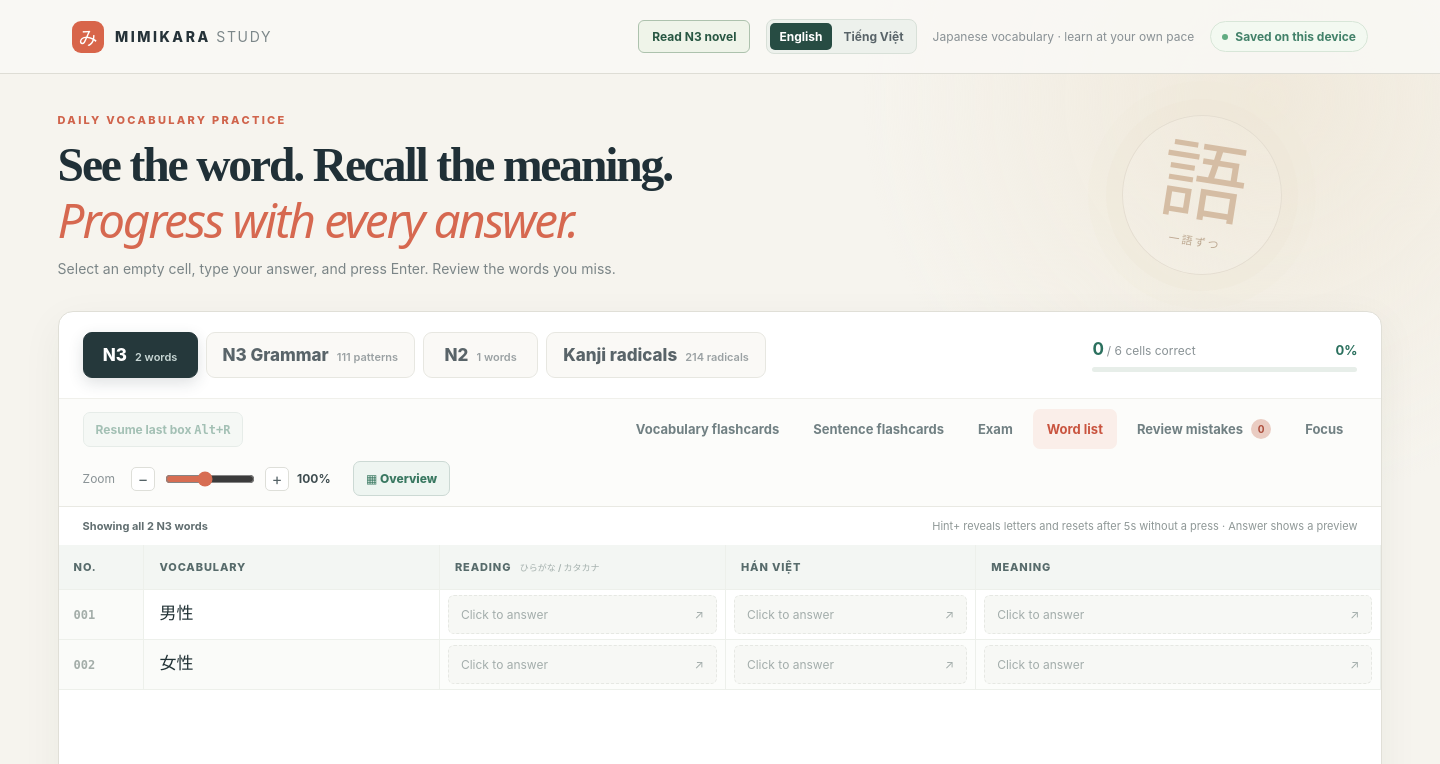
opens flashcard mode from the study toolbar and returns to the list
The width and height of the screenshot is (1440, 764).
Step 1. Click the button "Sentence flashcards" → [879, 429], box [799,409,958,449]
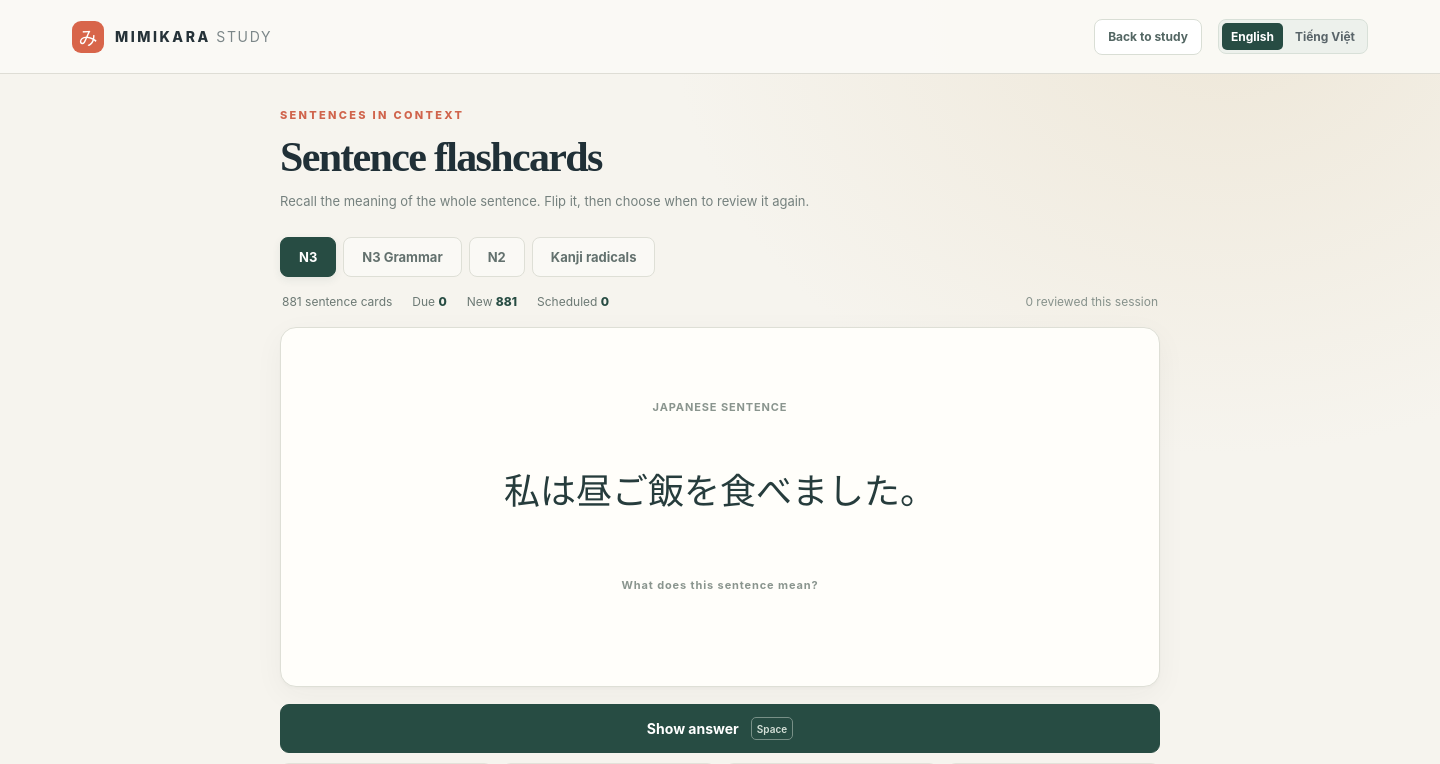
Expected: the heading "Sentence flashcards" is shown, [280,134,602,180]
Step 2. Click the button "Back to study" → [1148, 36], box [1094,18,1202,54]
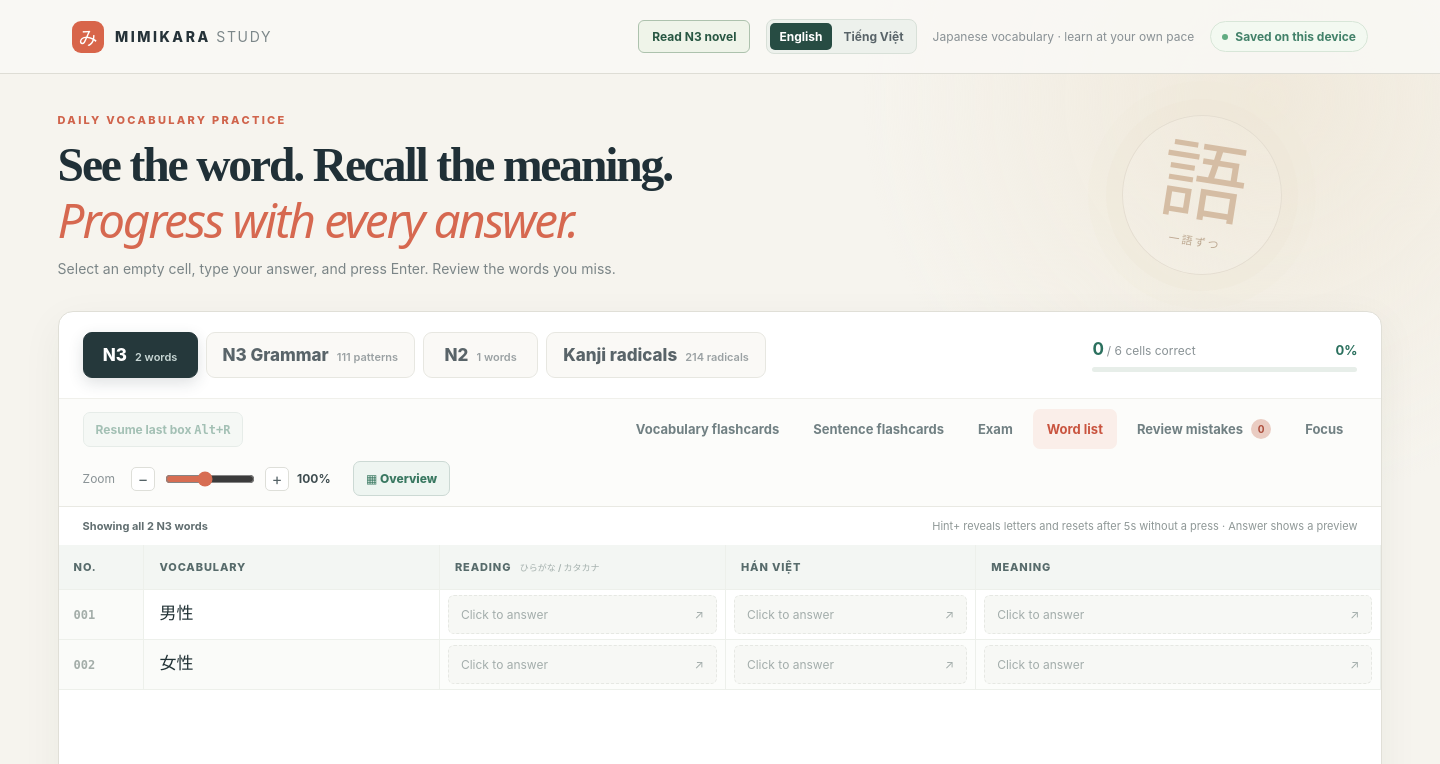
Expected: the button "Word list" is shown, [1033,409,1117,449]
